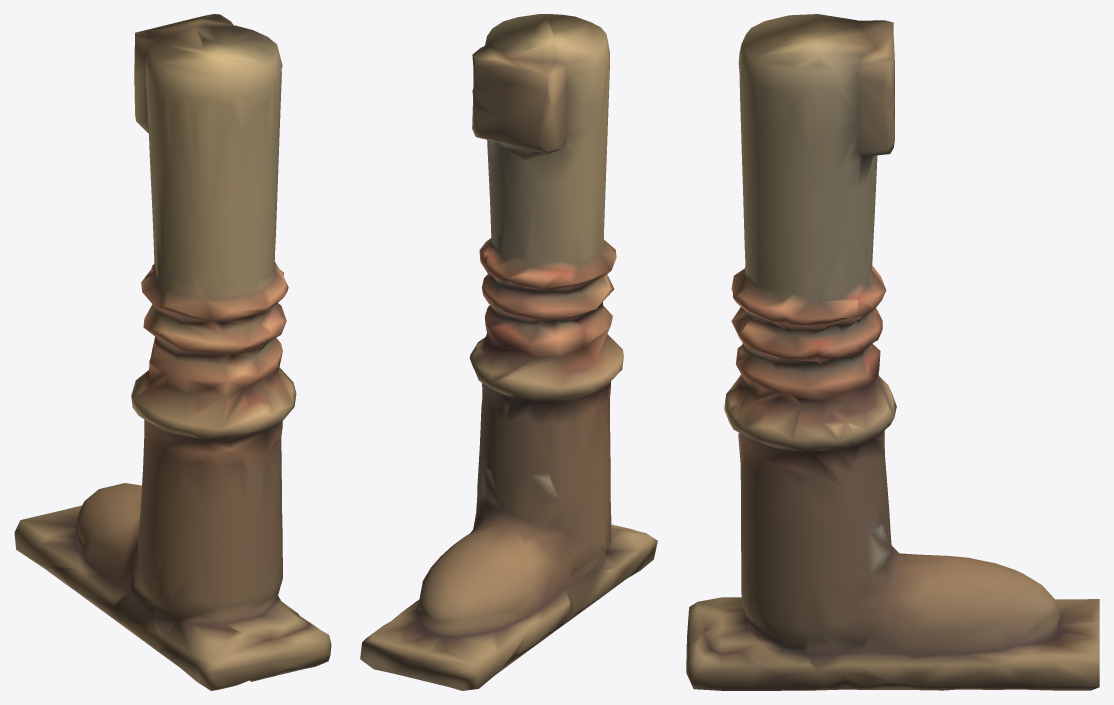
Rendered from hero_shin_l.glb.
3 views of the same model, side by side, from view 1: azimuth 30°, elevation 25°; view 2: azimuth 150°, elevation 25°; view 3: azimuth 270°, elevation 25° (orthographic). The views are drawn at different scales.
Visible parts, largest first — view 1: geometry_0; view 2: geometry_0; view 3: geometry_0.
Part boxes in pixels (<box>): geometry_0: <box>14,14,331,690</box>; geometry_0: <box>360,14,657,690</box>; geometry_0: <box>686,14,1099,690</box>.
Size of the model in its own units: 0.14 by 0.5528 by 0.3342.
